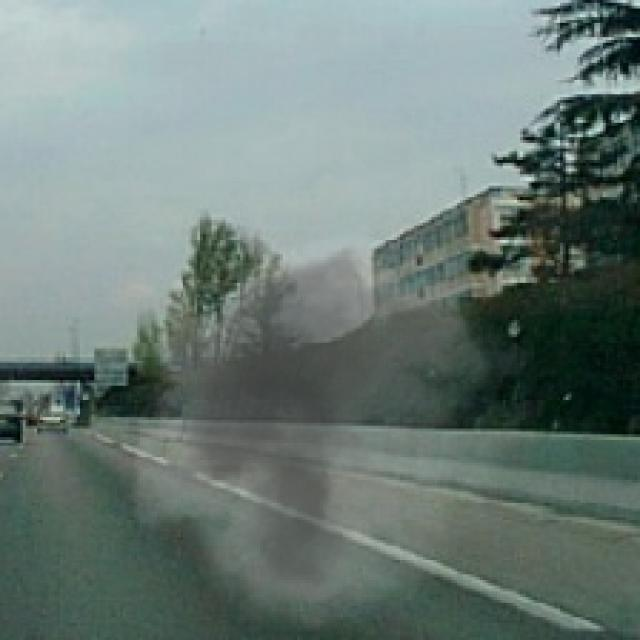Smoke: (112, 214, 537, 632)
